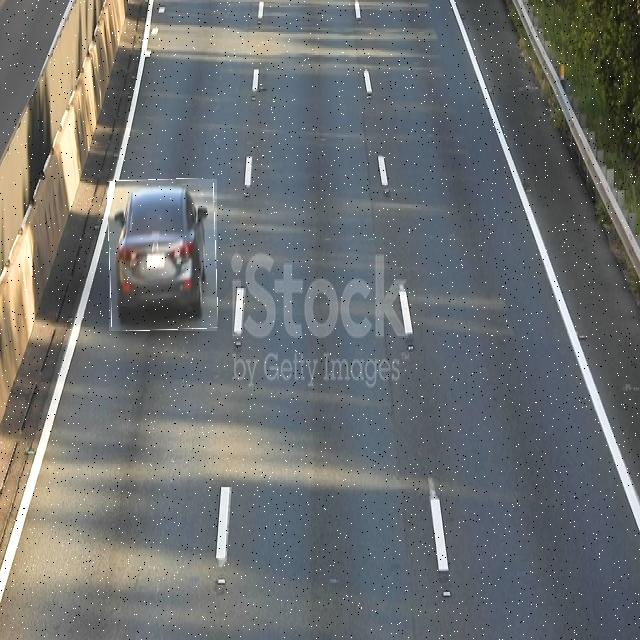Car: (109, 179, 217, 331)
